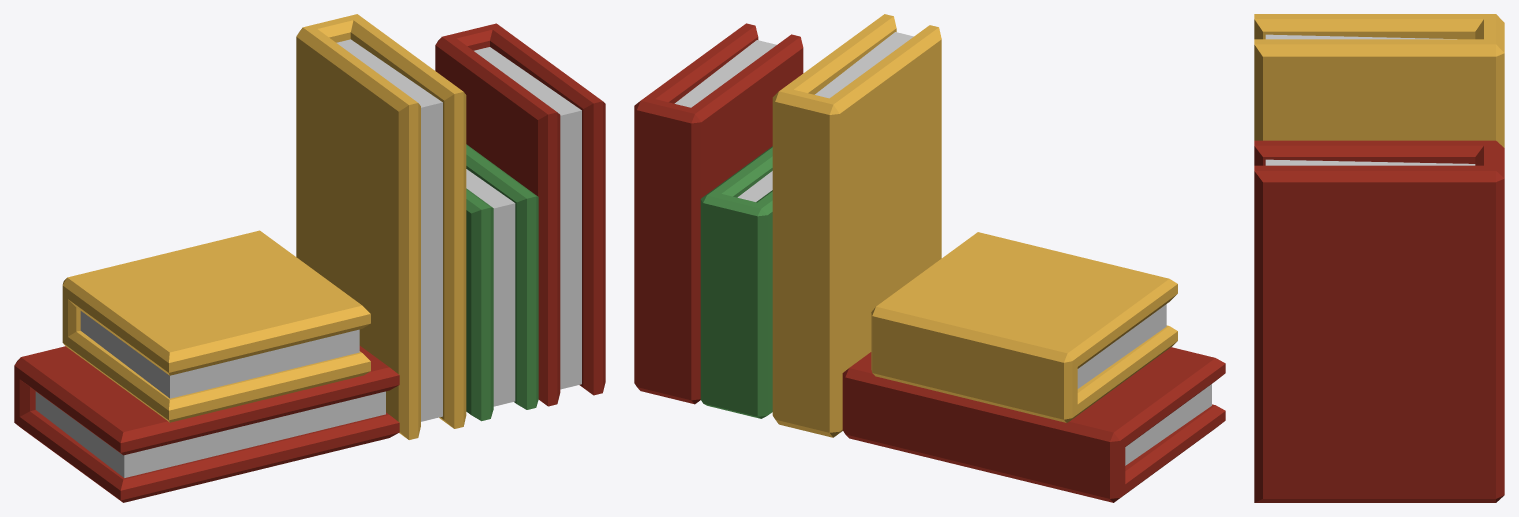
File: Books B.glb
3 renders of one model, left to right at view 1: azimuth 30°, elevation 25°; view 2: azimuth 150°, elevation 25°; view 3: azimuth 270°, elevation 25°, orthographic. The views are drawn at different scales.
Parts seen in each view (by area): view 1: Books B; view 2: Books B; view 3: Books B.
Part boxes in pixels (<box>): Books B: <box>14,14,605,502</box>; Books B: <box>634,14,1225,502</box>; Books B: <box>1254,14,1504,502</box>.
Bounding box in the file's own units: 226 × 148 × 88.15.
